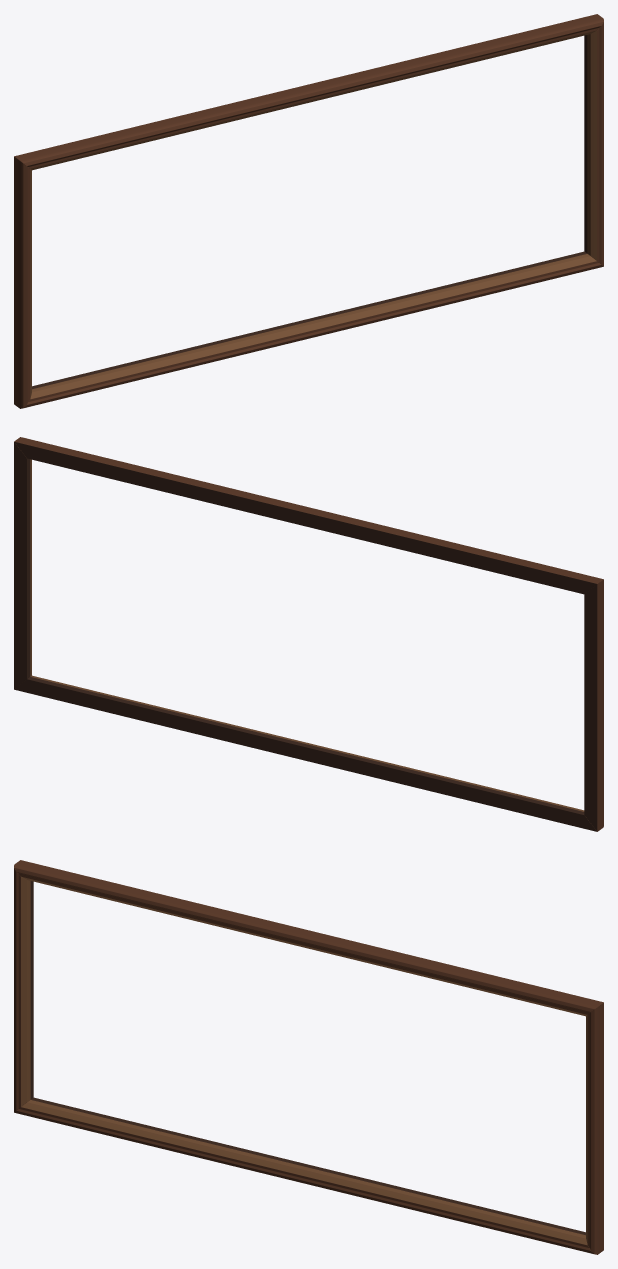
The model's file is WorldMapFrame.fbx.
The picture shows the model from 3 angles, top to bottom: view 1: azimuth 30°, elevation 25°; view 2: azimuth 150°, elevation 25°; view 3: azimuth 330°, elevation 25°; orthographic projection.
Visible parts, largest first — view 1: WorldMapFrame_BottomRail, WorldMapFrame_TopRail, WorldMapFrame_RightStile, WorldMapFrame_LeftStile; view 2: WorldMapFrame_TopRail, WorldMapFrame_BottomRail, WorldMapFrame_LeftStile, WorldMapFrame_RightStile; view 3: WorldMapFrame_BottomRail, WorldMapFrame_TopRail, WorldMapFrame_LeftStile, WorldMapFrame_RightStile.
Boxes of the visible parts, x1,y1,x2,y2 form: WorldMapFrame_BottomRail: (23,251,603,408); WorldMapFrame_TopRail: (14,14,603,170); WorldMapFrame_RightStile: (584,19,603,266); WorldMapFrame_LeftStile: (14,156,31,408); WorldMapFrame_TopRail: (14,437,603,594); WorldMapFrame_BottomRail: (14,675,596,831); WorldMapFrame_LeftStile: (584,579,603,831); WorldMapFrame_RightStile: (14,442,31,689); WorldMapFrame_BottomRail: (14,1097,594,1254); WorldMapFrame_TopRail: (14,860,603,1016); WorldMapFrame_LeftStile: (14,865,33,1112); WorldMapFrame_RightStile: (586,1002,603,1254).
Bounding box in the file's own units: 160 × 65 × 4.09.
